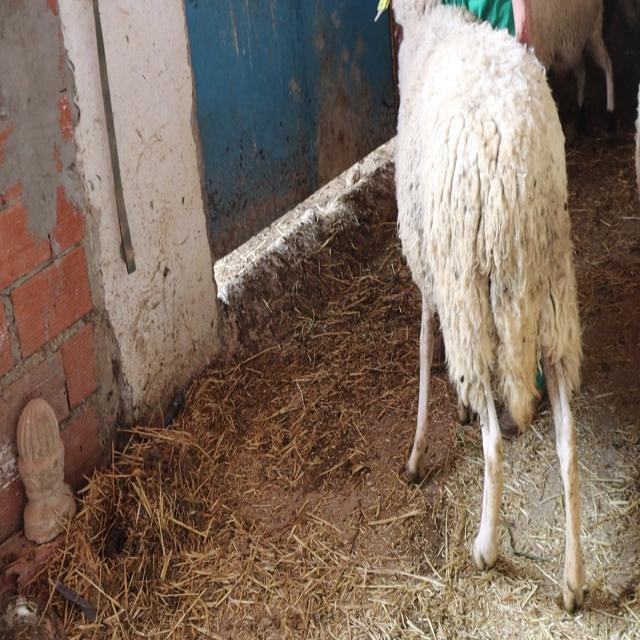Score_5: (392, 0, 583, 610)
